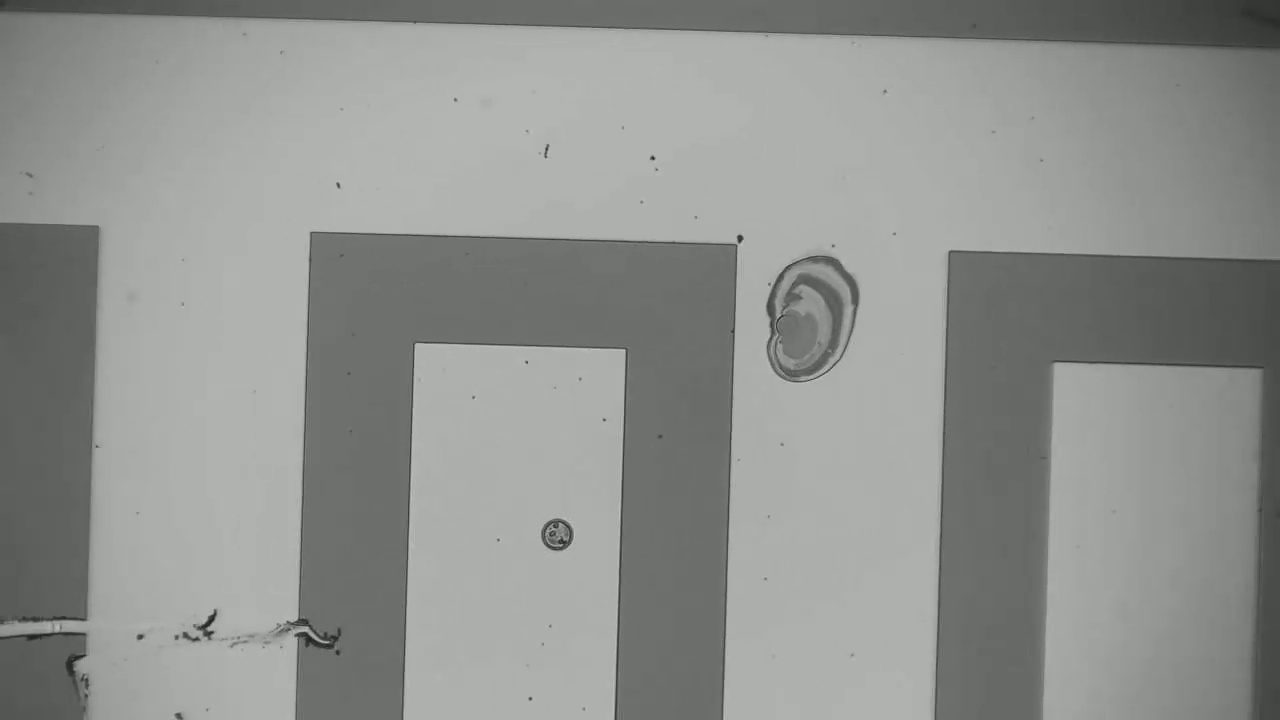Short_circuit: (0, 592, 106, 676)
